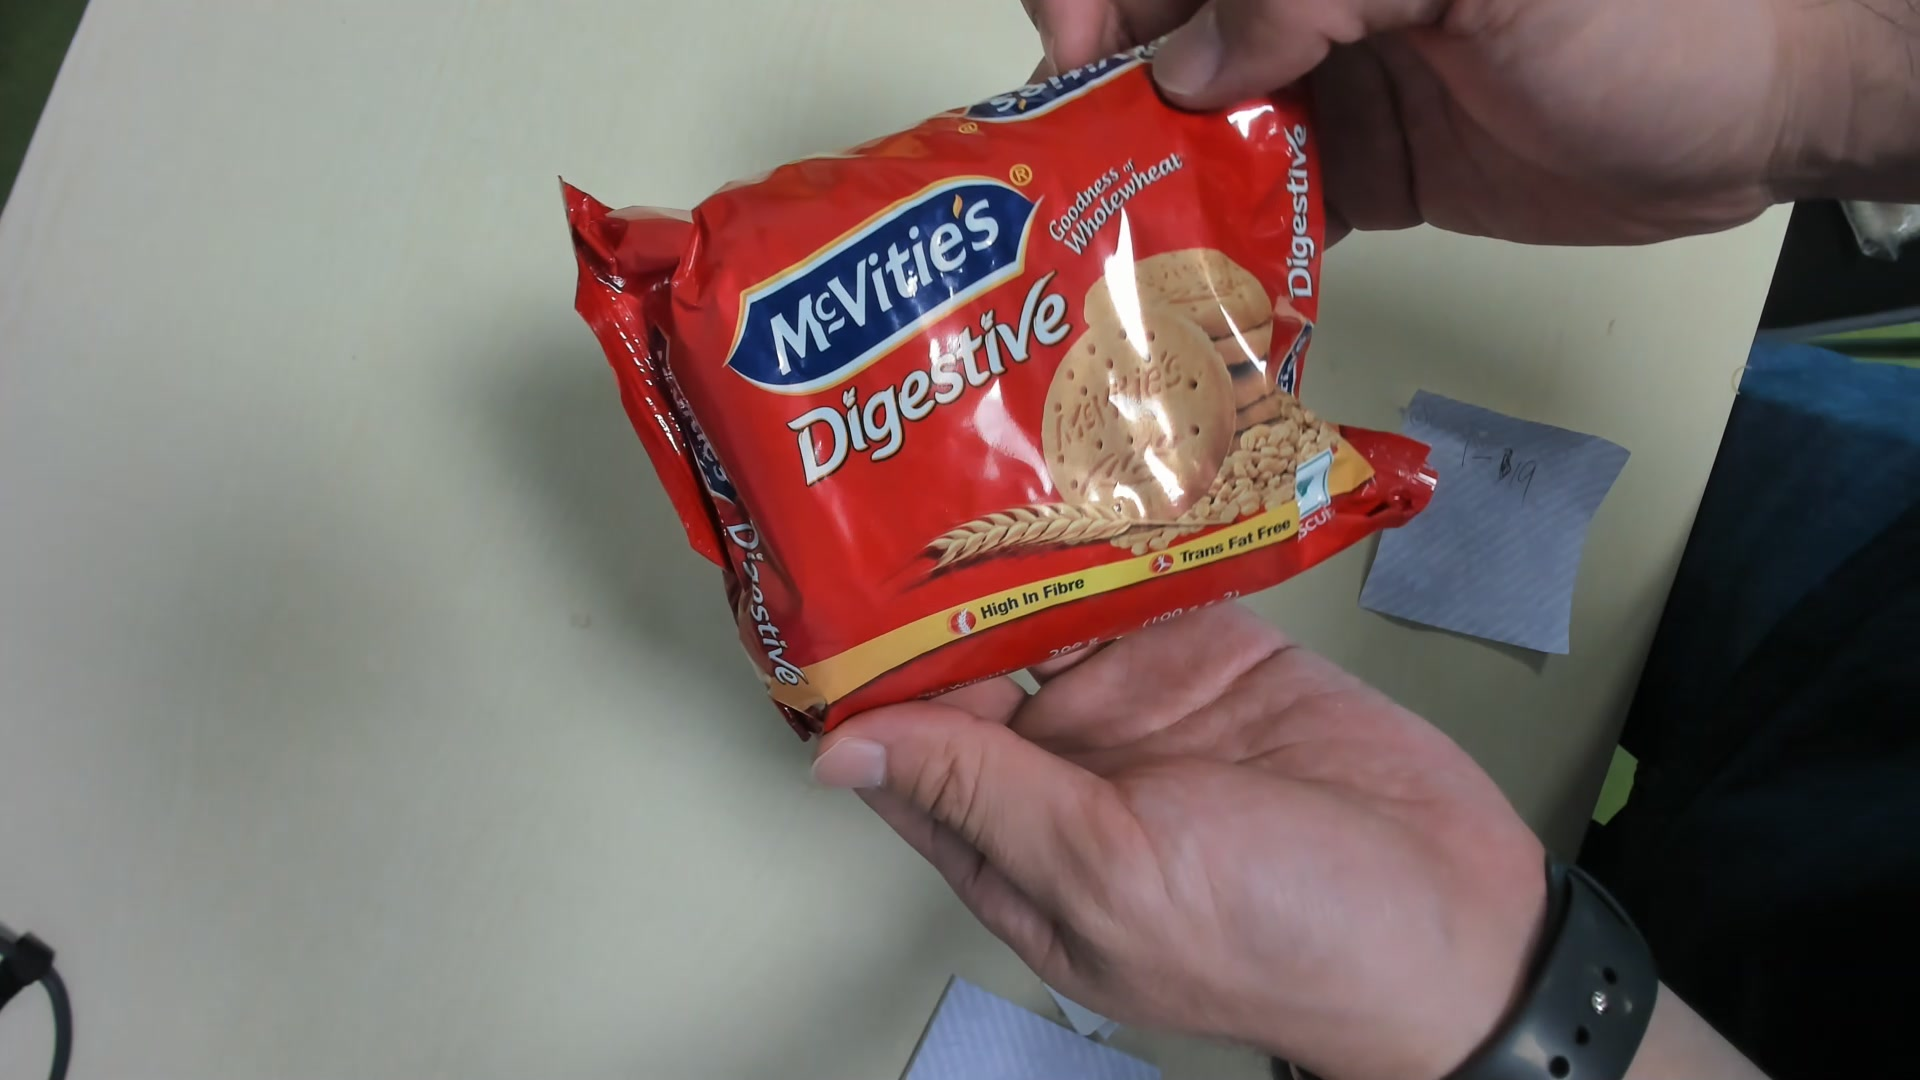BiscuitsCrackersCookies_200-299g_NonHalal_NonHealthy: (562, 42, 1447, 738)
